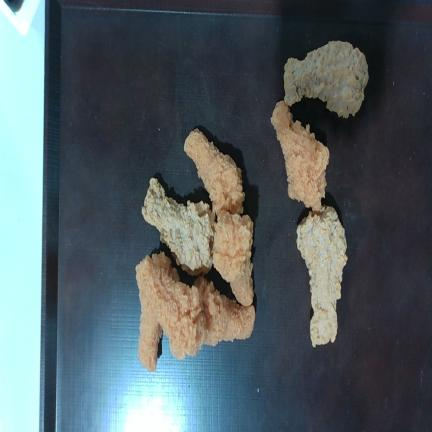chicken: (297, 206, 347, 347), (137, 257, 206, 359), (141, 178, 213, 274), (284, 41, 368, 118), (271, 101, 329, 210), (184, 128, 244, 215), (213, 212, 253, 305), (198, 282, 255, 346), (138, 292, 162, 371)
